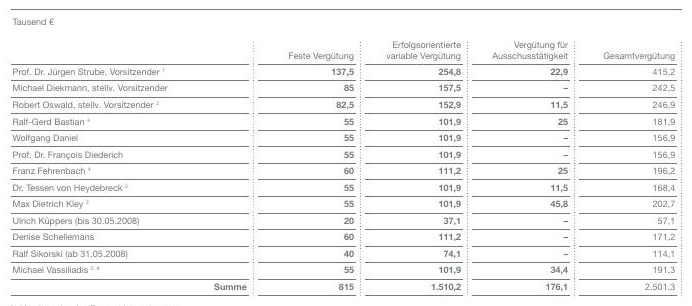table: (0, 0, 692, 306)
